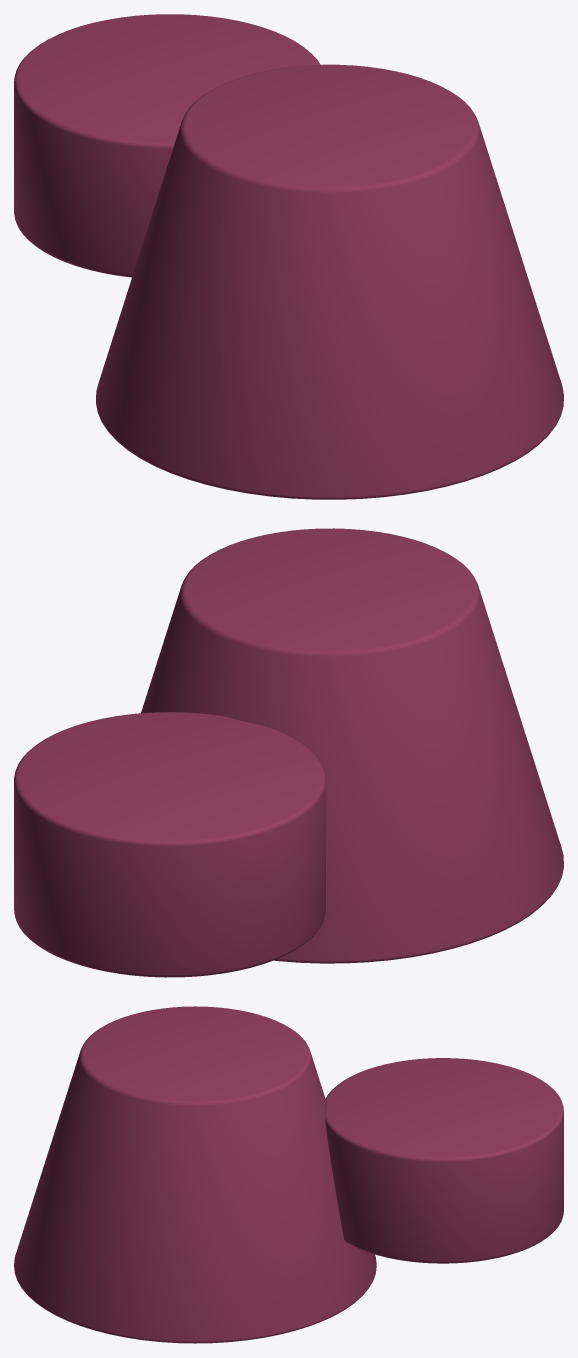
Rendered from dress.glb.
The picture shows the model from 3 angles, top to bottom: view 1: azimuth 30°, elevation 25°; view 2: azimuth 150°, elevation 25°; view 3: azimuth 270°, elevation 25°; orthographic projection. The views are drawn at different scales.
Parts seen in each view (by area): view 1: IMPAR_DRESS_PROXY; view 2: IMPAR_DRESS_PROXY; view 3: IMPAR_DRESS_PROXY.
Boxes of the visible parts, x1=… form: IMPAR_DRESS_PROXY: x1=14, y1=14, x2=563, y2=499; IMPAR_DRESS_PROXY: x1=14, y1=528, x2=563, y2=977; IMPAR_DRESS_PROXY: x1=14, y1=1006, x2=563, y2=1343.
Size of the model in its own units: 1.83 by 1.19 by 2.78.
